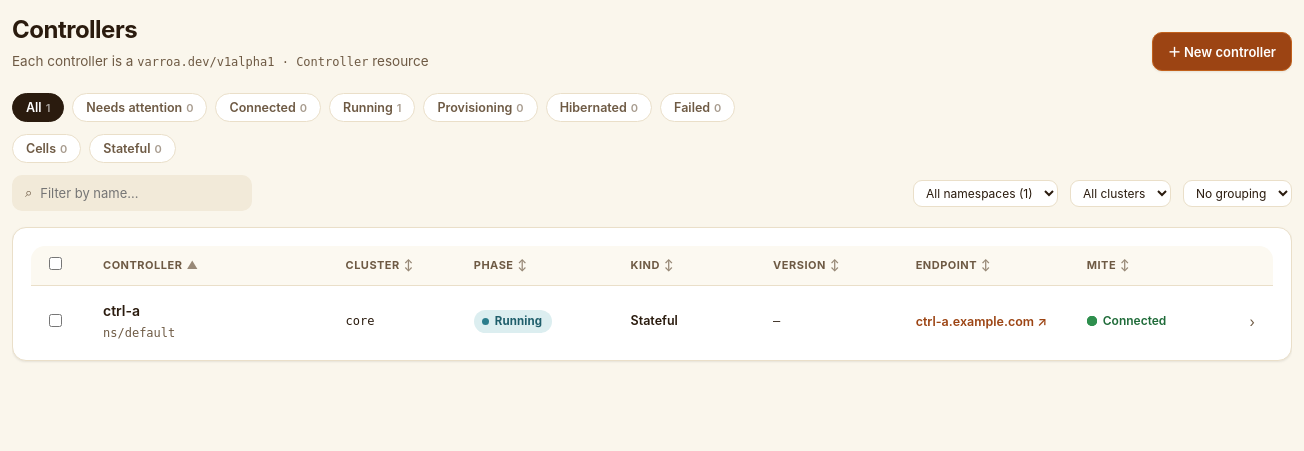
it: Controllers › Run operation flow › clearing the selection hides the brood bar
The image size is (1304, 451).
What coordinates should you click on to do the following:
click the 2nd checkbox
I would click on:
 (56, 320)
Its box is x1=49 y1=314 x2=62 y2=327.
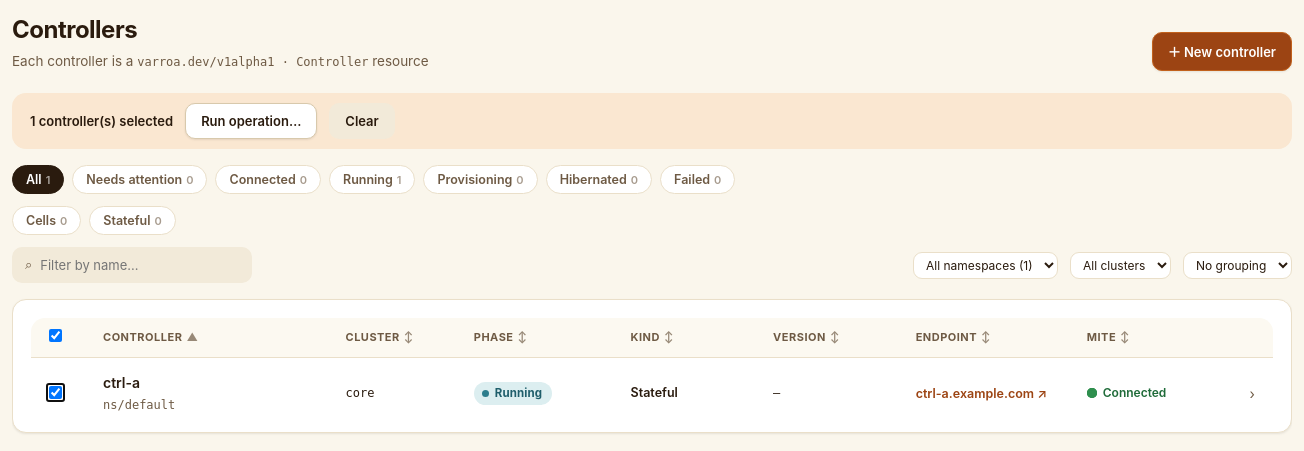
Result: the button "Run operation…" is shown at x1=185 y1=103 x2=317 y2=139
What coordinates should you click on to do the following:
click the button "Clear"
I would click on:
 (362, 121)
Its box is x1=329 y1=103 x2=395 y2=139.
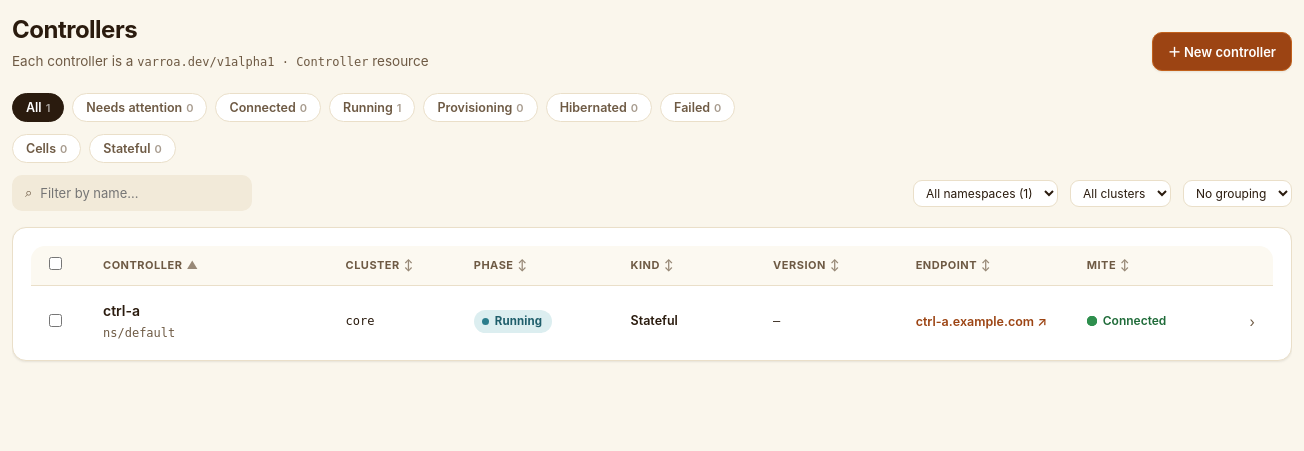
Result: the button "Run operation…" is gone
